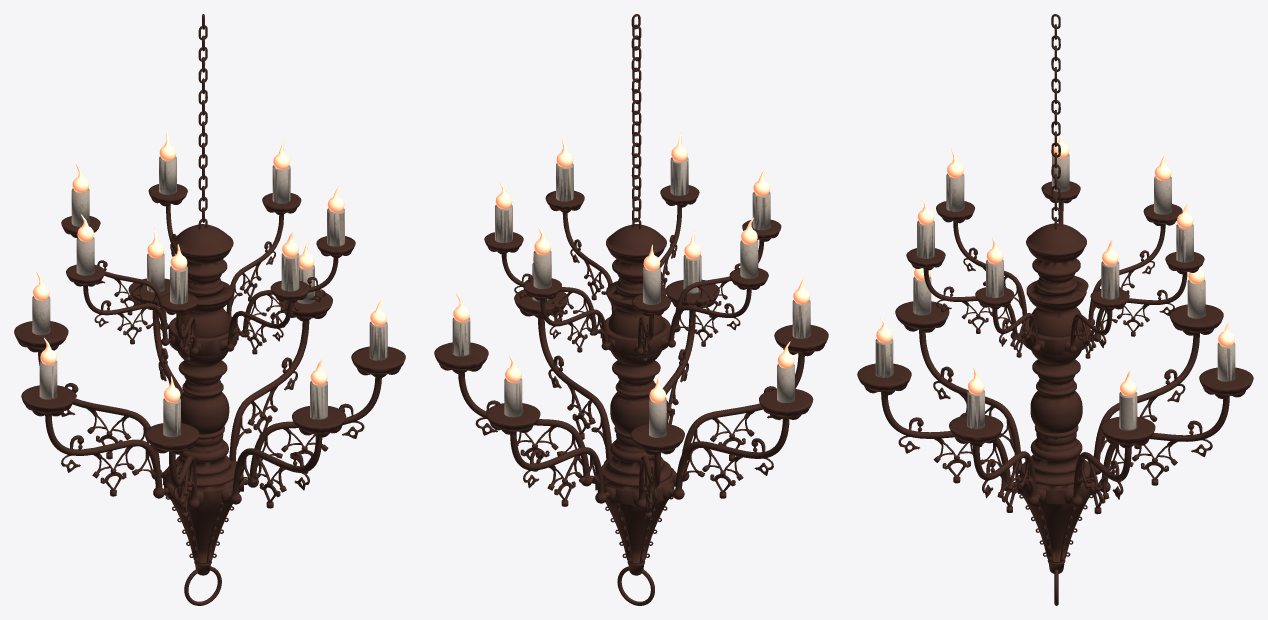
File: chandelier2.glb
3 renders of one model, left to right at view 1: azimuth 30°, elevation 25°; view 2: azimuth 150°, elevation 25°; view 3: azimuth 270°, elevation 25°, orthographic.
Visible parts, largest first — view 1: Object_6, Object_11, Object_9; view 2: Object_6, Object_11, Object_9; view 3: Object_6, Object_11, Object_9.
Boxes of the visible parts, x1,y1,x2,y2 form: Object_6: [14, 14, 405, 605]; Object_11: [32, 156, 387, 437]; Object_9: [33, 130, 386, 402]; Object_6: [434, 14, 828, 605]; Object_11: [452, 157, 810, 437]; Object_9: [453, 131, 809, 403]; Object_6: [857, 14, 1253, 605]; Object_11: [875, 154, 1235, 430]; Object_9: [876, 128, 1234, 396].
Bounding box in the file's own units: 1.98 × 3.3 × 2.01.
Materials: 4 (2 with a texture image).
